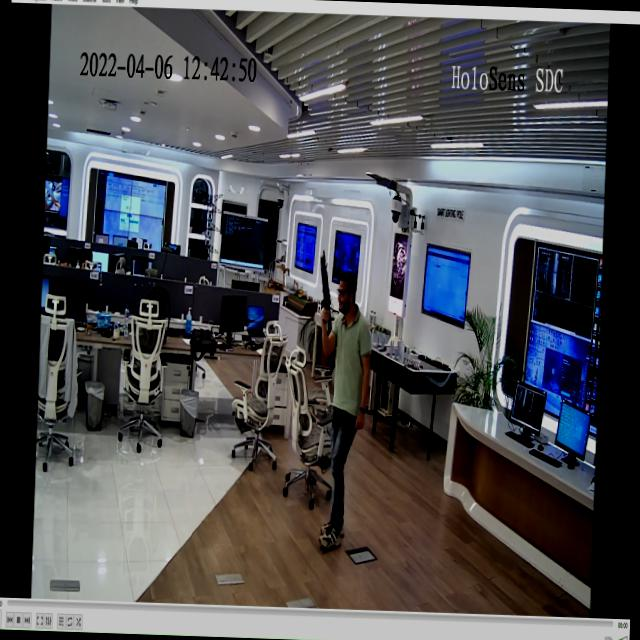long weapon: (312, 242, 340, 351)
